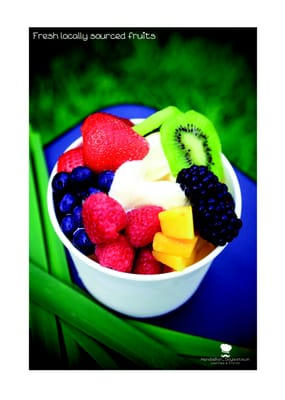sushi: (45, 105, 244, 318)
